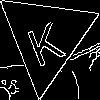K: (21, 13, 67, 68)
